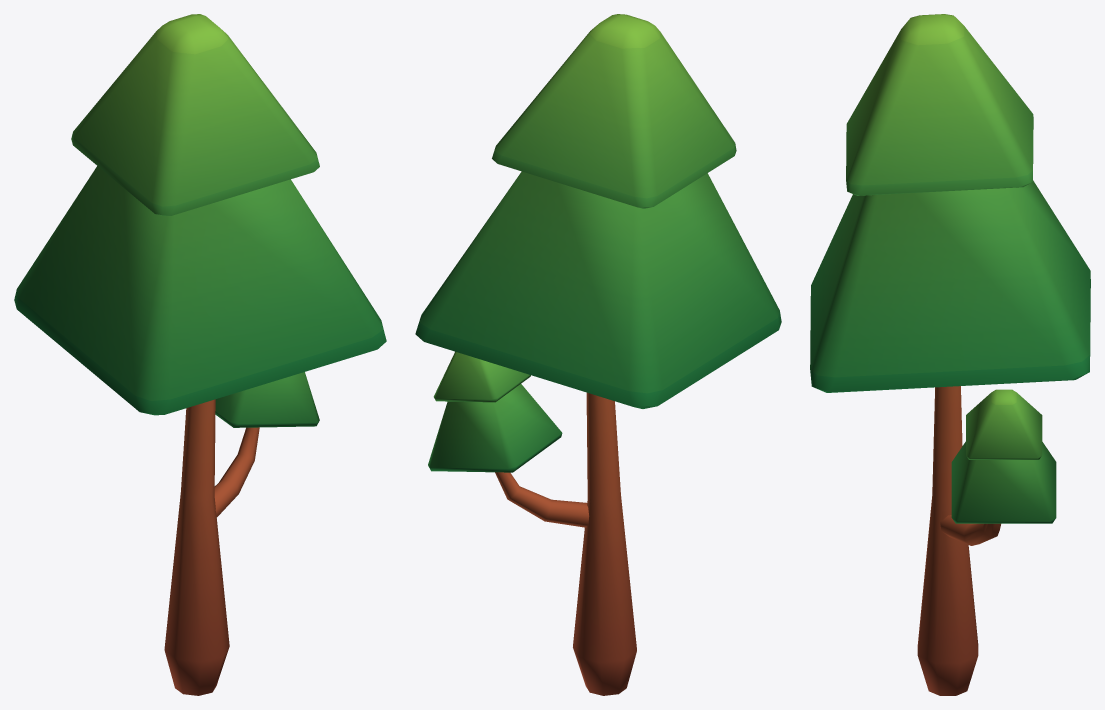
File: Tree_4_A_Color1.glb
3 renders of one model, left to right at view 1: azimuth 30°, elevation 25°; view 2: azimuth 150°, elevation 25°; view 3: azimuth 270°, elevation 25°, orthographic.
Parts seen in each view (by area): view 1: Tree_4_A_Color1; view 2: Tree_4_A_Color1; view 3: Tree_4_A_Color1.
Boxes of the visible parts, bbox=[...] form: Tree_4_A_Color1: bbox=[14, 14, 386, 695]; Tree_4_A_Color1: bbox=[415, 14, 781, 695]; Tree_4_A_Color1: bbox=[810, 14, 1090, 695].
Size of the model in its own units: 2.01 by 5.27 by 2.
Materials: 1 (1 with a texture image).
